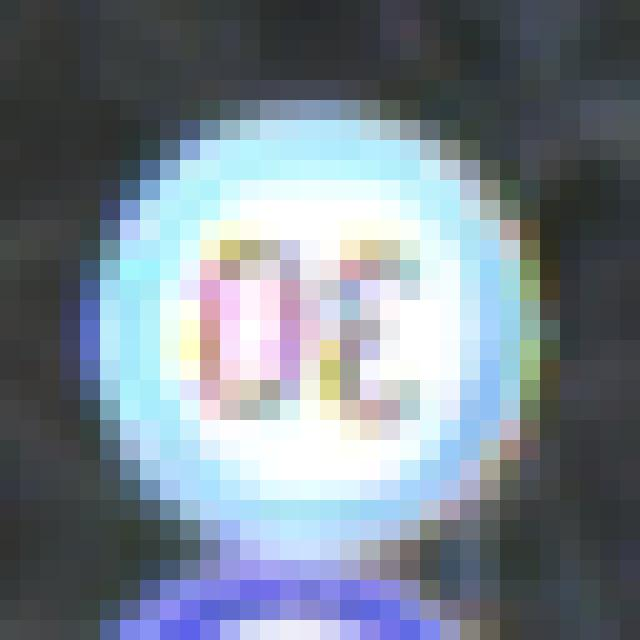SPEED LIMIT 30: (72, 126, 506, 548)
